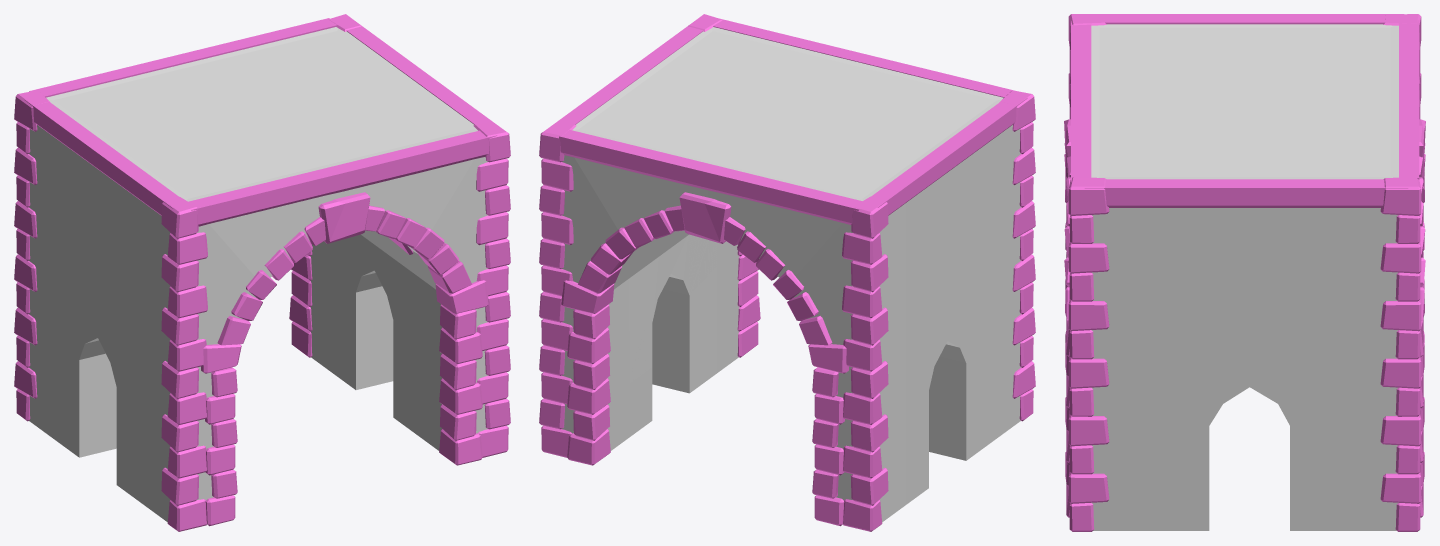
The model's file is SM_Gate_Bottom_Big_Doors_Fantasy_Base.fbx.
3 renders of one model, left to right at view 1: azimuth 30°, elevation 25°; view 2: azimuth 150°, elevation 25°; view 3: azimuth 270°, elevation 25°, orthographic. The views are drawn at different scales.
Visible parts, largest first — view 1: SM_Gate_Bottom_Big_Doors_Fantasy_Base; view 2: SM_Gate_Bottom_Big_Doors_Fantasy_Base; view 3: SM_Gate_Bottom_Big_Doors_Fantasy_Base.
Part boxes in pixels (x1,y1,x2,y2): SM_Gate_Bottom_Big_Doors_Fantasy_Base: (14, 14, 510, 531); SM_Gate_Bottom_Big_Doors_Fantasy_Base: (539, 14, 1035, 531); SM_Gate_Bottom_Big_Doors_Fantasy_Base: (1064, 14, 1425, 531).
Bounding box in the file's own units: 6.61 × 6.04 × 5.73.
